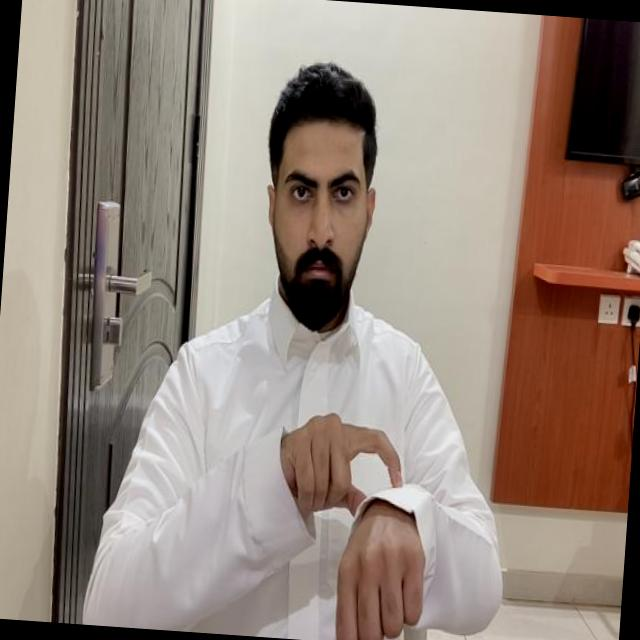appointment: (266, 401, 437, 640)
